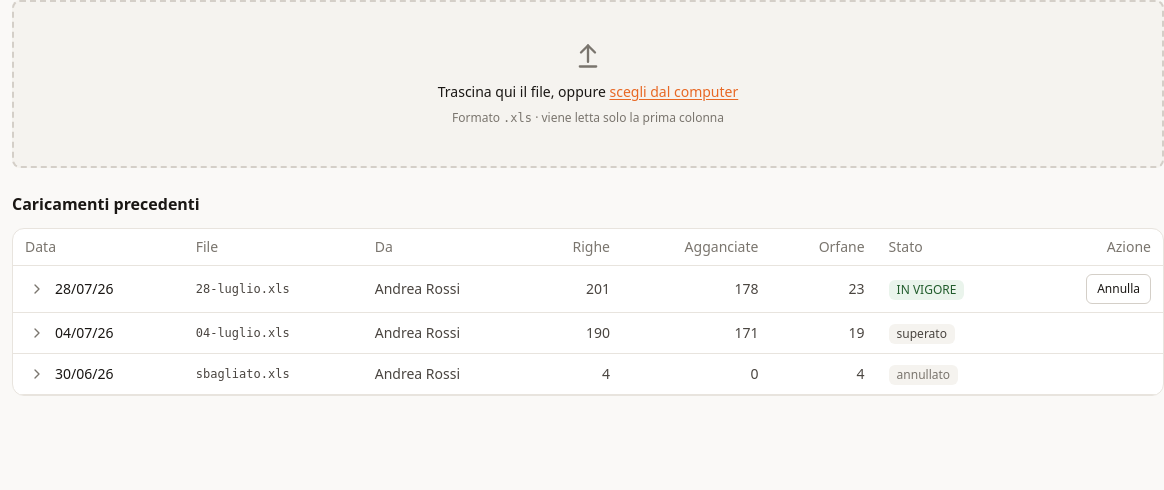
Test: ImportClient — storico › si può desistere dall'annullamento
Step 1. Click the button with aria-label "annulla l'import" → (1119, 289), box [1086,274,1151,304]
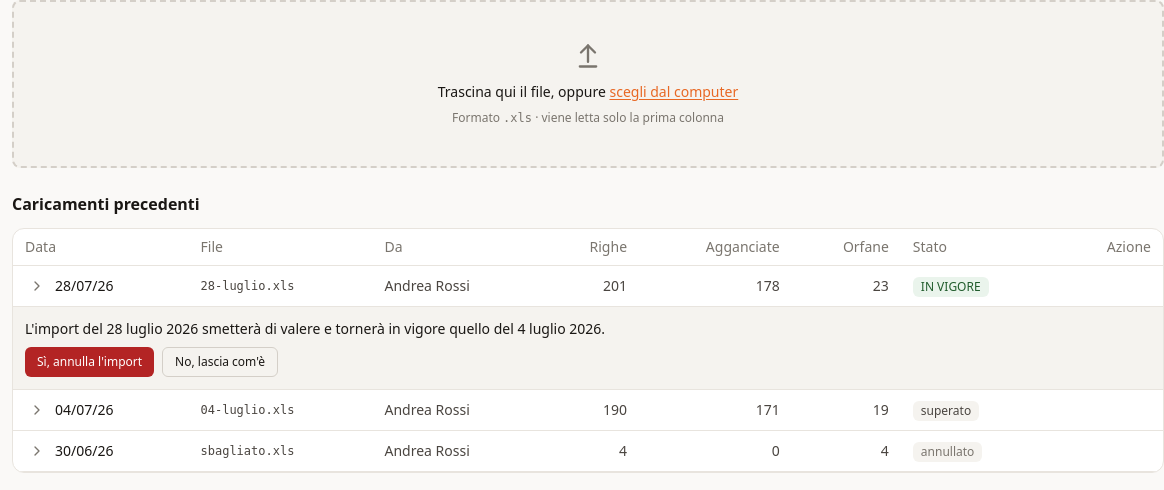
Step 2. Click the button "No, lascia com'è" → (220, 362), box [162,347,278,377]
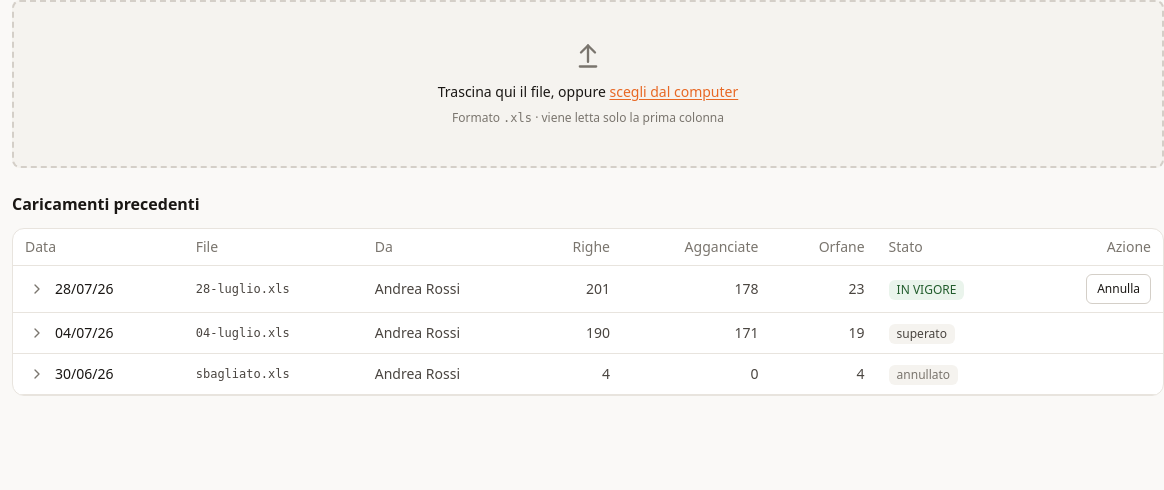
Check: the text "smetterà di valere" is gone
